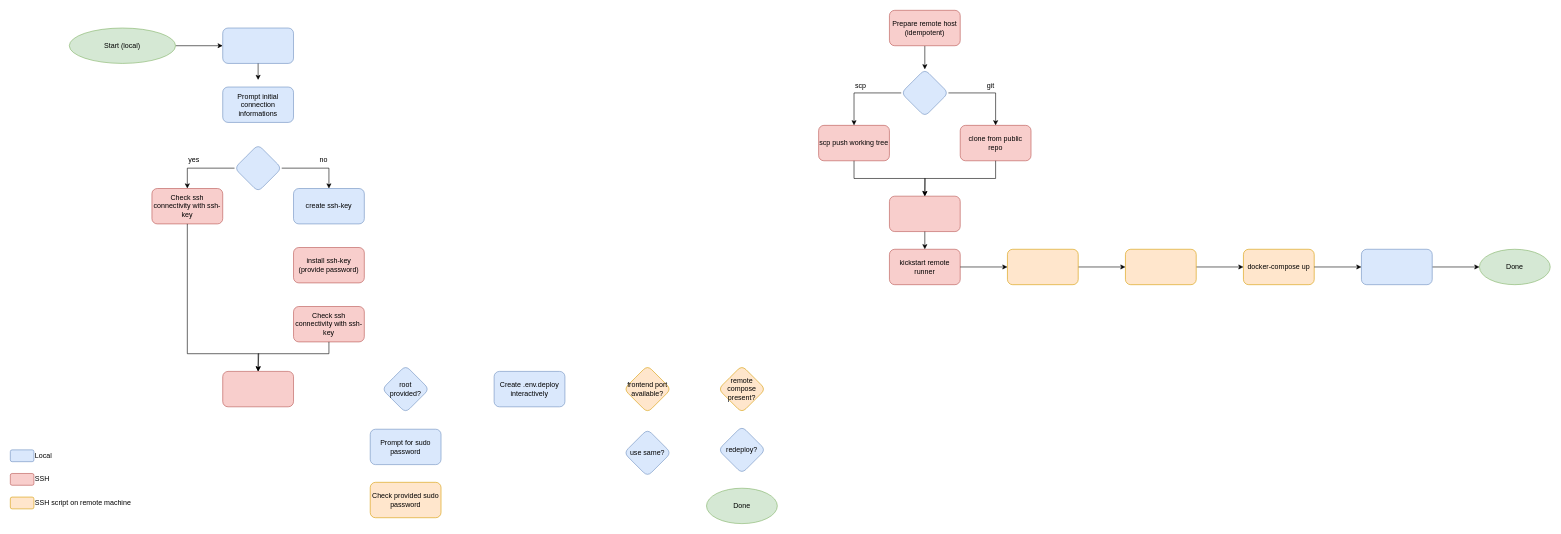
Some shapes in this 1561 by 534 pixel diagram are drawn without their labels. Each missing label, with the centre of its shape:
Check local dependencies: (258,45)
Copy all ssh-tasks scripts to remote host: (258,389)
docker-compose build: (1160,267)
docker-compose down: (1042,267)
Print paths to log on remote server: (1396,267)
scp or git?: (924,93)
ssh key present?: (258,168)
upload .env.deploy: (924,214)
